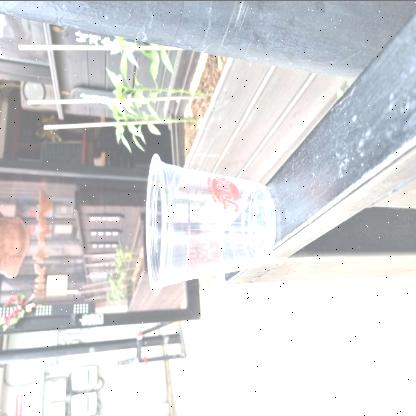Others: (143, 146, 280, 300)
